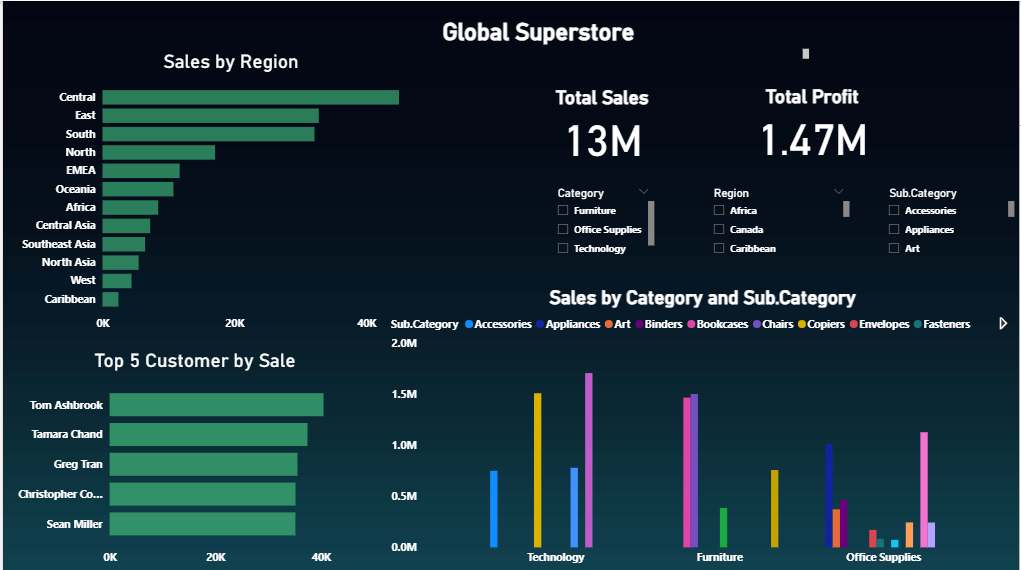

What the dashboard file says about the page in this screenshot:
{"tool":"powerbi","page":{"name":"Page 1","canvas":[1280,720],"ordinal":0},"visuals":[{"type":"card","title":"Total Sales","fields":{"Values":["superstore (2).Sales"]},"box":[661.4,107.7,187.1,94.5],"z":0},{"type":"card","title":"Total Profit","fields":{"Values":["superstore (2).Profit"]},"box":[926,105.8,187.1,96.4],"z":1000},{"type":"barChart","title":"Top 5 Customer by Sale","fields":{"Category":["superstore (2).Customer.Name"],"Y":["superstore (2).Sales"]},"box":[0,438.4,483.8,281.6],"z":2000},{"type":"barChart","title":"Sales by Region","fields":{"Category":["superstore (2).Region"],"Y":["superstore (2).Sales"]},"box":[17,62.4,540.5,362.8],"z":3000},{"type":"clusteredColumnChart","title":"Sales by Category and Sub.Category","fields":{"Category":["superstore (2).Category"],"Y":["superstore (2).Sales"],"Series":["superstore (2).Sub.Category"]},"box":[483.8,359.1,795.6,360.9],"z":4000},{"type":"slicer","fields":{"Values":["superstore (2).Region"]},"box":[882.5,228.7,189,96.4],"z":6000},{"type":"slicer","fields":{"Values":["superstore (2).Sub.Category"]},"box":[1103.6,228.7,175.7,96.4],"z":7000},{"type":"slicer","fields":{"Values":["superstore (2).Category"]},"box":[686,228.7,139.8,96.4],"z":8000},{"type":"textbox","title":"GLOBAL SUPERSTORE DATASET","box":[328.8,20.8,691.7,56.7],"z":9000}]}

Visuals, with their boxes in screenshot pixels (x1, y1, x2, y2), scaled from the page's 1280x720 canvas onto the 1021x570 screenshot:
"Total Sales" card: <region>528, 85, 677, 160</region>
"Total Profit" card: <region>739, 84, 888, 160</region>
"Top 5 Customer by Sale" barChart: <region>0, 347, 386, 569</region>
"Sales by Region" barChart: <region>14, 49, 445, 337</region>
"Sales by Category and Sub.Category" clusteredColumnChart: <region>386, 284, 1020, 569</region>
slicer - superstore (2).Region: <region>704, 181, 855, 257</region>
slicer - superstore (2).Sub.Category: <region>880, 181, 1020, 257</region>
slicer - superstore (2).Category: <region>547, 181, 659, 257</region>
"GLOBAL SUPERSTORE DATASET" textbox: <region>262, 16, 814, 61</region>
